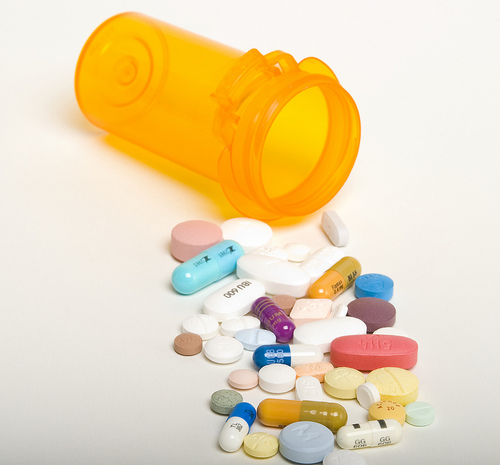pill bottle: (76, 13, 360, 221)
